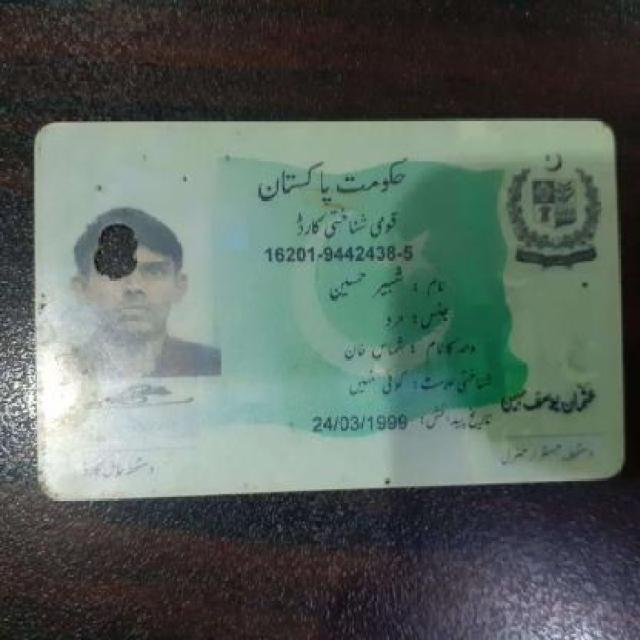Front: (28, 114, 628, 492)
